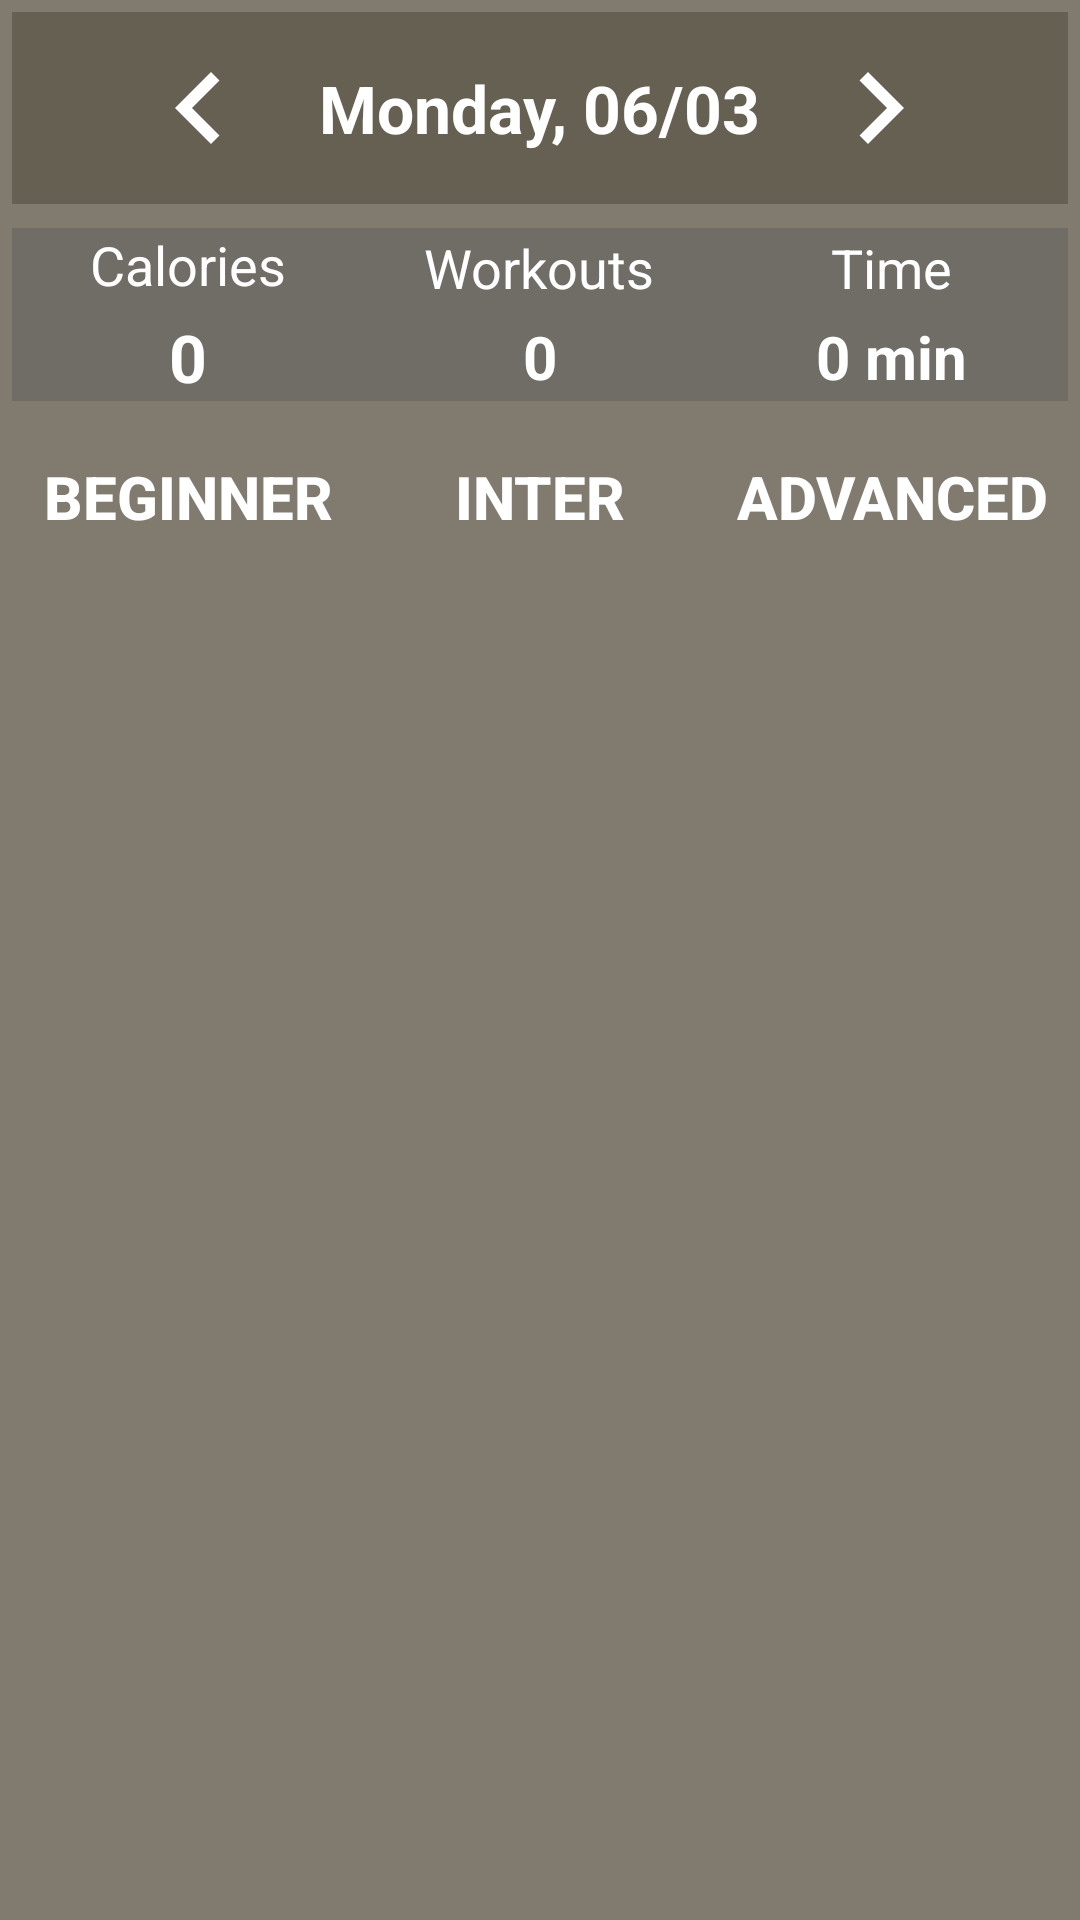

Locate icon controls on the screen. Image size 1080 × 1920, boxes as (x1, y1, x2, y2).
Next Day: (859, 72, 904, 144)
Previous Day: (175, 72, 220, 144)
